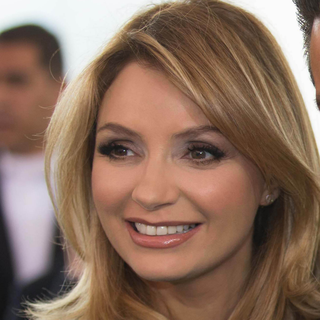eye: (94, 136, 147, 166), (173, 138, 226, 167)
